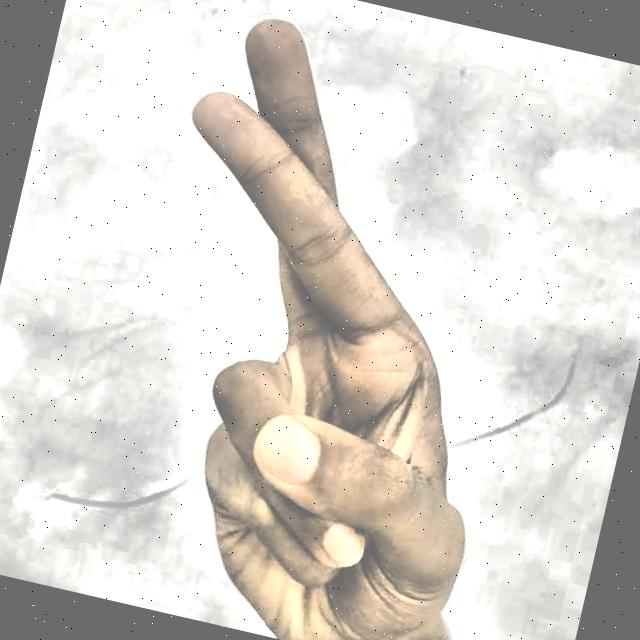Ra: (40, 0, 612, 640)
